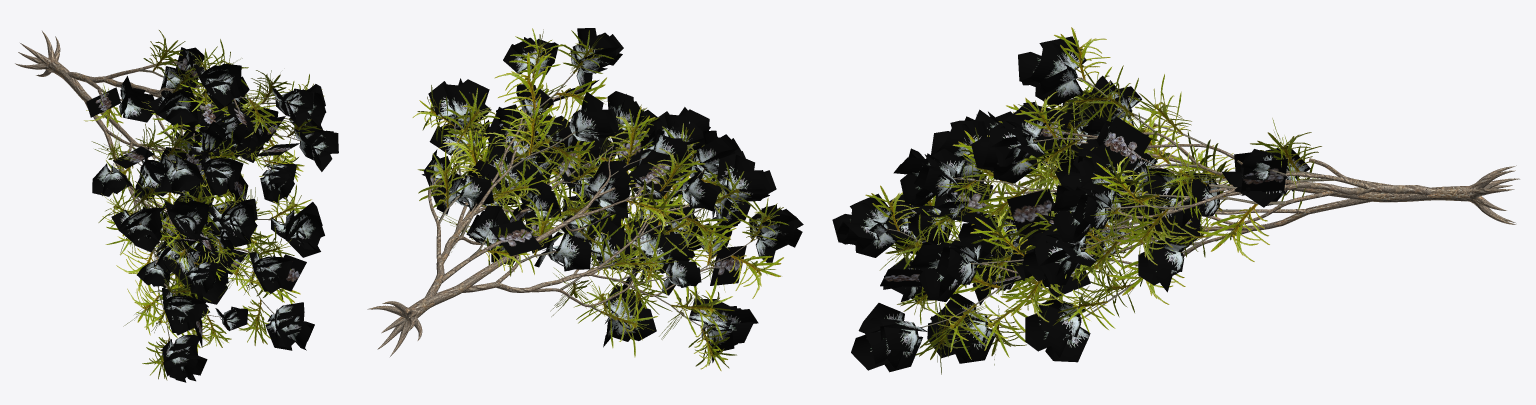
The picture shows the model from 3 angles, left to right: view 1: azimuth 30°, elevation 25°; view 2: azimuth 150°, elevation 25°; view 3: azimuth 270°, elevation 25°; orthographic projection. The views are drawn at different scales.
Parts seen in each view (by area): view 1: OC56_2; view 2: OC56_2; view 3: OC56_2.
Part boxes in pixels (x1,y1,x2,y2): OC56_2: (15, 30, 338, 382); OC56_2: (367, 28, 803, 371); OC56_2: (832, 27, 1519, 374).
Size of the model in its own units: 0.9061 by 0.9873 by 1.5.
Materials: 8 (8 with a texture image).
